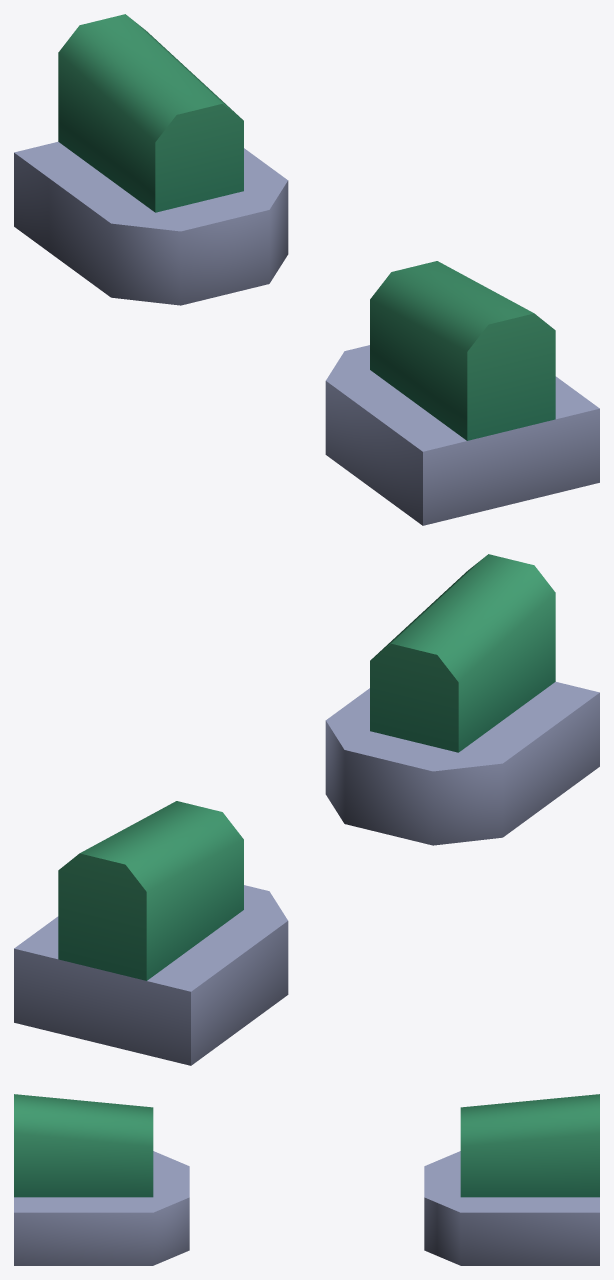
Rendered from T_hedge-gate.glb.
3 renders of one model, top to bottom at view 1: azimuth 30°, elevation 25°; view 2: azimuth 150°, elevation 25°; view 3: azimuth 270°, elevation 25°, orthographic. The views are drawn at different scales.
Parts seen in each view (by area): view 1: hedge-gate; view 2: hedge-gate; view 3: hedge-gate.
Part boxes in pixels (left/top/right/bottom): hedge-gate: left=14, top=14, right=599, bottom=525; hedge-gate: left=14, top=554, right=599, bottom=1065; hedge-gate: left=14, top=1094, right=599, bottom=1265.
Size of the model in its own units: 0.25 by 0.25 by 1.
